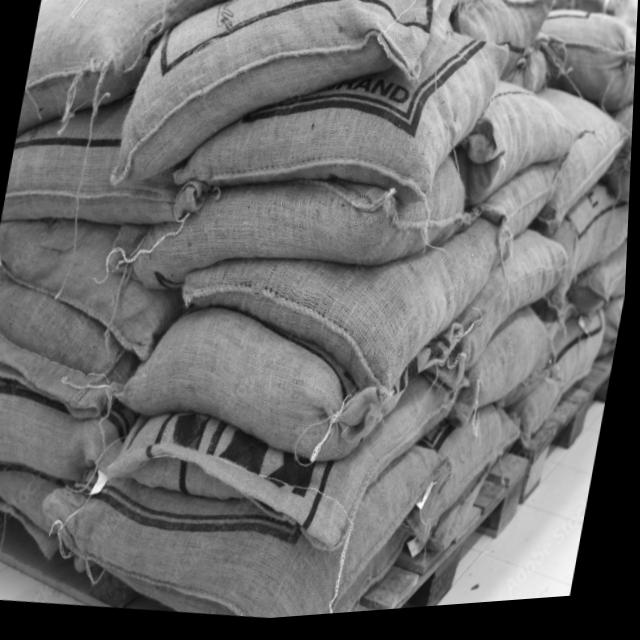sack: (97, 315, 476, 590), (30, 400, 444, 637), (166, 183, 521, 434), (125, 118, 497, 336), (110, 0, 461, 227), (172, 0, 514, 229), (111, 282, 469, 495), (4, 85, 225, 243), (0, 204, 196, 377), (0, 360, 139, 569), (0, 252, 151, 433), (19, 0, 173, 147), (405, 402, 529, 564), (459, 229, 575, 387), (520, 90, 636, 248), (461, 80, 584, 225), (454, 303, 564, 430), (527, 10, 638, 127), (547, 188, 632, 323), (445, 0, 558, 95), (477, 157, 565, 277), (549, 312, 612, 404)
